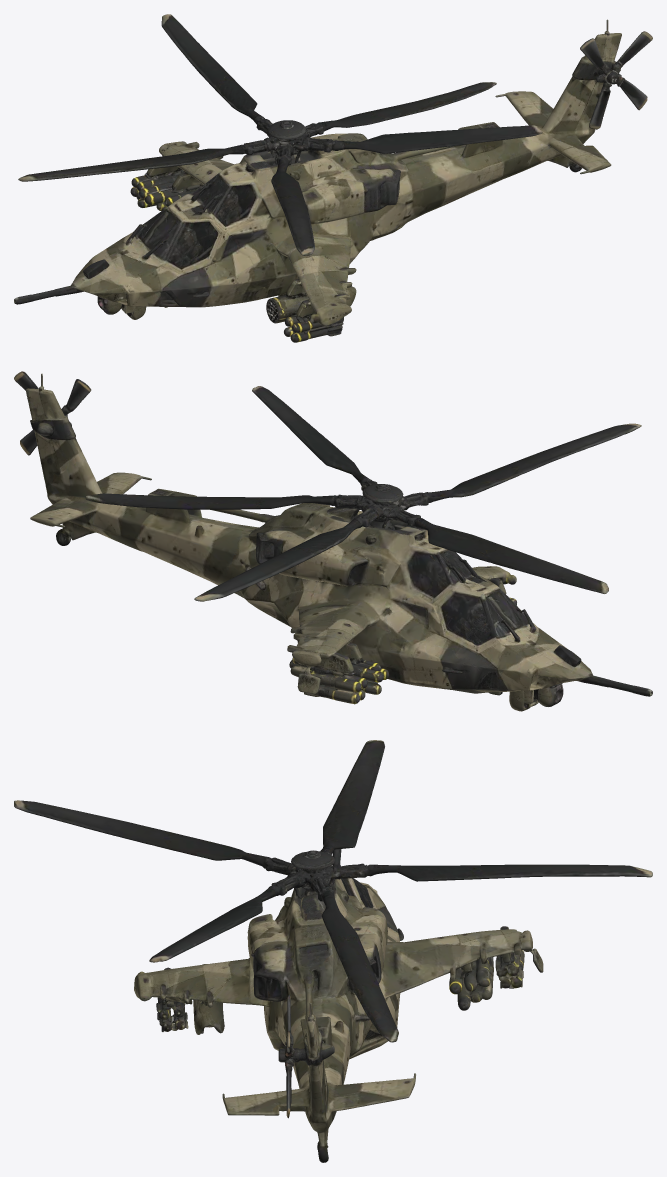
File: helicoptere.glb
The picture shows the model from 3 angles, top to bottom: view 1: azimuth 30°, elevation 25°; view 2: azimuth 150°, elevation 25°; view 3: azimuth 270°, elevation 25°; orthographic projection. The views are drawn at different scales.
Size of the model in its own units: 1.92 by 0.568 by 1.48.
1 material, 1 textured.
